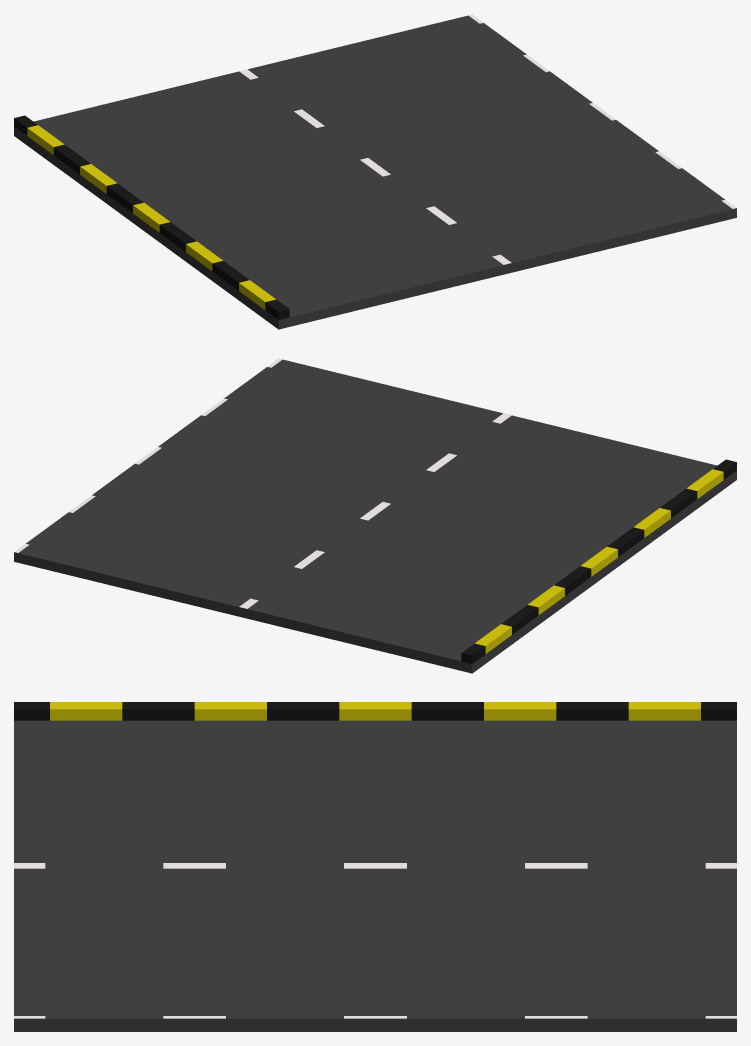
The model's file is major_road_straight.glb.
The picture shows the model from 3 angles, top to bottom: view 1: azimuth 30°, elevation 25°; view 2: azimuth 150°, elevation 25°; view 3: azimuth 270°, elevation 25°; orthographic projection. The views are drawn at different scales.
Parts seen in each view (by area): view 1: Cube.013, Sidewalk.017, Cube.014; view 2: Cube.013, Sidewalk.017, Cube.014; view 3: Cube.013, Sidewalk.017, Cube.014, Cube.015.
Part boxes in pixels (x1,y1,x2,y2): Cube.013: [14, 15, 736, 329]; Sidewalk.017: [14, 115, 289, 319]; Cube.014: [239, 69, 511, 264]; Cube.013: [14, 359, 736, 673]; Sidewalk.017: [461, 459, 736, 663]; Cube.014: [239, 413, 511, 608]; Cube.013: [14, 720, 736, 1031]; Sidewalk.017: [14, 702, 736, 720]; Cube.014: [14, 863, 736, 868]; Cube.015: [14, 1016, 736, 1018].
Size of the model in its own units: 2 by 0.0741 by 2.
